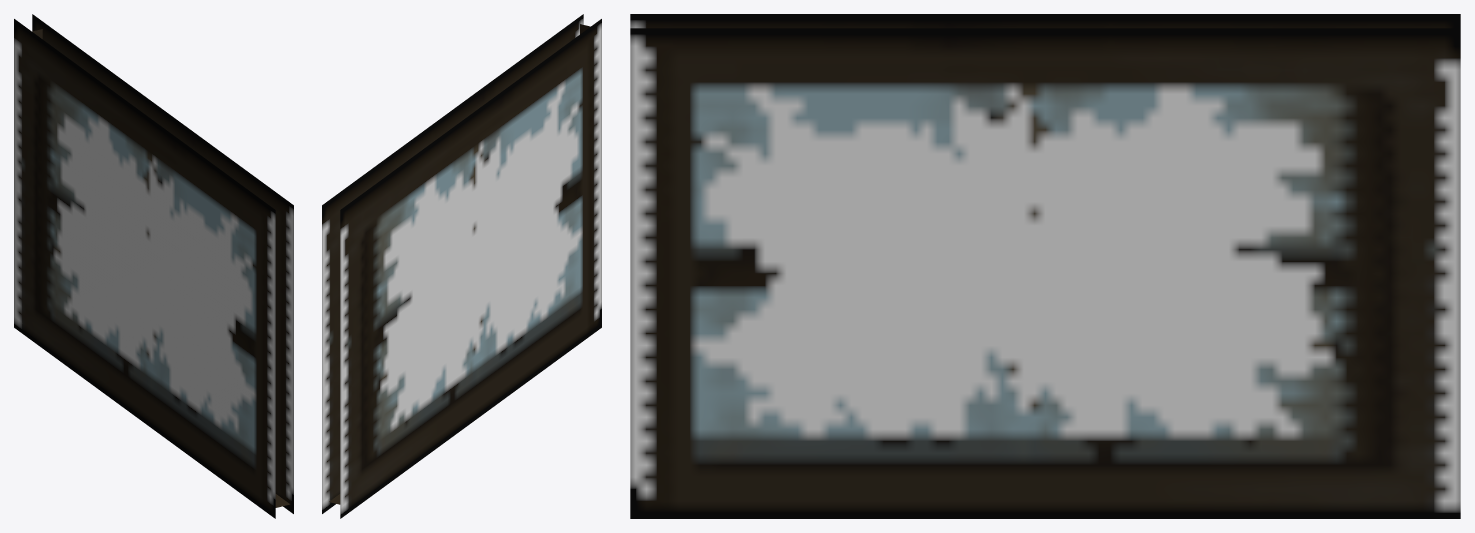
File: pz_native_fixtures_windows_01_60_frame.obj
The picture shows the model from 3 angles, left to right: view 1: azimuth 30°, elevation 25°; view 2: azimuth 150°, elevation 25°; view 3: azimuth 270°, elevation 25°; orthographic projection. The views are drawn at different scales.
Visible parts, largest first — view 1: pz_native_fixtures_windows_01_60_frame; view 2: pz_native_fixtures_windows_01_60_frame; view 3: pz_native_fixtures_windows_01_60_frame.
Part boxes in pixels (x1,y1,x2,y2): pz_native_fixtures_windows_01_60_frame: [14, 14, 293, 518]; pz_native_fixtures_windows_01_60_frame: [322, 14, 601, 518]; pz_native_fixtures_windows_01_60_frame: [630, 14, 1460, 518].
Bounding box in the file's own units: 0.04 × 0.6406 × 0.9823.
Materials: 1 (1 with a texture image).
